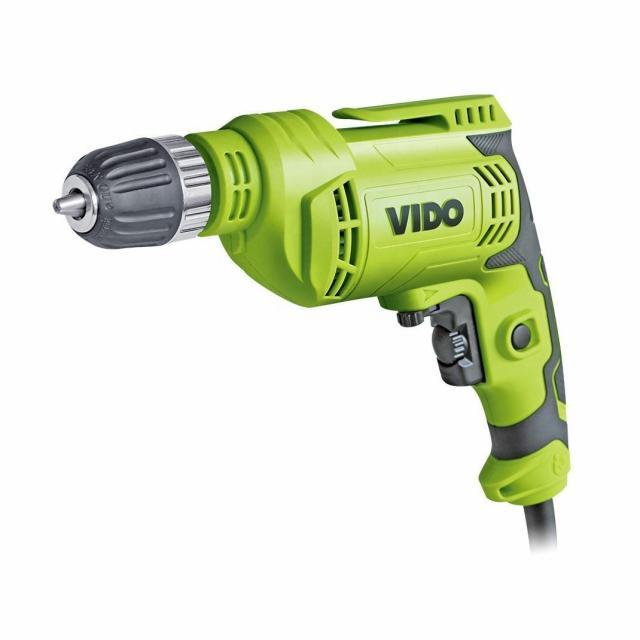drill: (53, 94, 571, 556)
